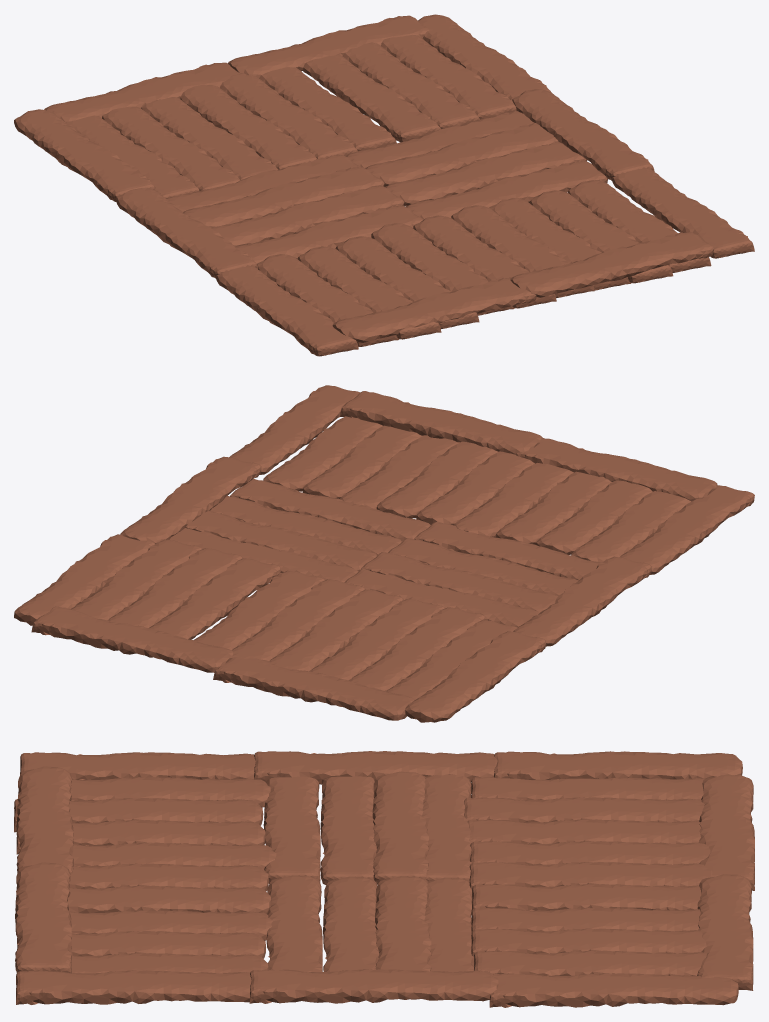
The model's file is 1stphaseofislandhouse.fbx.
The picture shows the model from 3 angles, top to bottom: view 1: azimuth 30°, elevation 25°; view 2: azimuth 150°, elevation 25°; view 3: azimuth 270°, elevation 25°; orthographic projection. The views are drawn at different scales.
Parts seen in each view (by area): view 1: Cube.009, Cube.008, Cube.004, Cube, Cube.002, Cube.006, Cube.007, Cube.024, Cube.019, Cube.014, Cube.015, Cube.018 (+24 smaller); view 2: Cube.003, Cube.001, Cube.009, Cube, Cube.006, Cube.002, Cube.008, Cube.004, Cube.020, Cube.024, Cube.007, Cube.005 (+24 smaller); view 3: Cube.006, Cube.005, Cube.007, Cube, Cube.002, Cube.009, Cube.023, Cube.014, Cube.004, Cube.003, Cube.015, Cube.022 (+24 smaller).
Part boxes in pixels (x1,y1,x2,y2): Cube.009: [510, 232, 713, 297]; Cube.008: [332, 277, 536, 342]; Cube.004: [215, 266, 358, 356]; Cube: [14, 109, 155, 201]; Cube.002: [116, 187, 258, 278]; Cube.006: [512, 89, 654, 180]; Cube.007: [611, 168, 754, 258]; Cube.024: [303, 54, 440, 142]; Cube.019: [385, 142, 587, 206]; Cube.014: [183, 167, 384, 227]; Cube.015: [211, 186, 404, 246]; Cube.018: [365, 123, 558, 186]; Cube.003: [31, 606, 233, 672]; Cube.001: [213, 657, 414, 720]; Cube.009: [340, 391, 542, 454]; Cube: [405, 631, 546, 722]; Cube.006: [120, 456, 261, 543]; Cube.002: [513, 556, 652, 646]; Cube.008: [516, 437, 717, 501]; Cube.004: [619, 485, 754, 574]; Cube.020: [230, 479, 430, 540]; Cube.024: [149, 558, 281, 639]; Cube.007: [229, 385, 359, 474]; Cube.005: [14, 534, 155, 625]; Cube.006: [249, 969, 498, 1003]; Cube.005: [489, 973, 738, 1007]; Cube.007: [16, 970, 251, 1004]; Cube: [494, 751, 742, 779]; Cube.002: [254, 751, 497, 784]; Cube.009: [15, 862, 71, 973]; Cube.023: [472, 884, 701, 910]; Cube.014: [372, 771, 428, 884]; Cube.004: [20, 752, 255, 779]; Cube.003: [697, 874, 753, 990]; Cube.015: [320, 776, 376, 884]; Cube.022: [469, 862, 713, 889].
Bounding box in the file's own units: 1598 × 71.27 × 2017.
